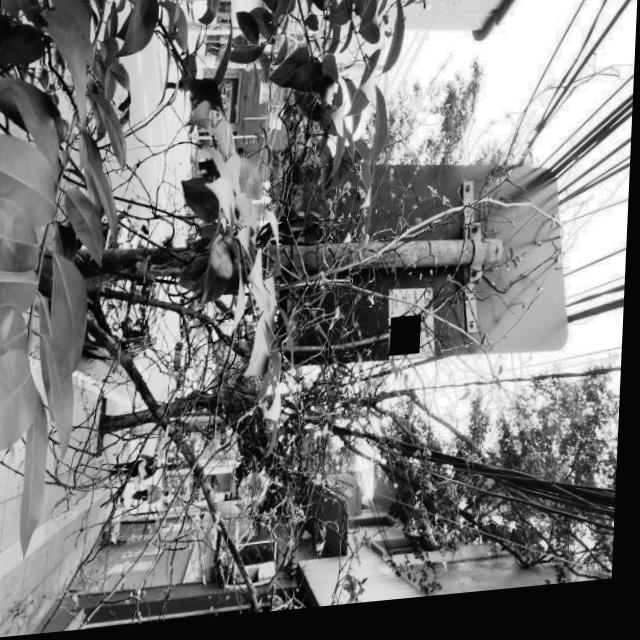qr_code: (392, 324, 424, 364)
